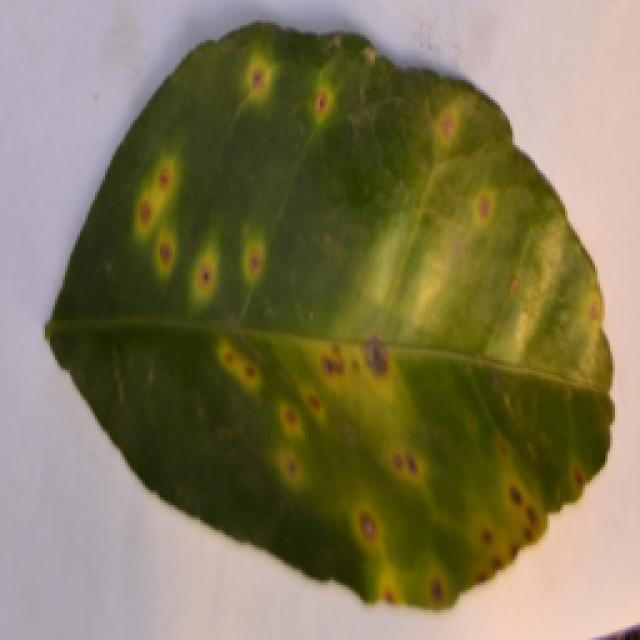canker: (73, 24, 622, 614)
